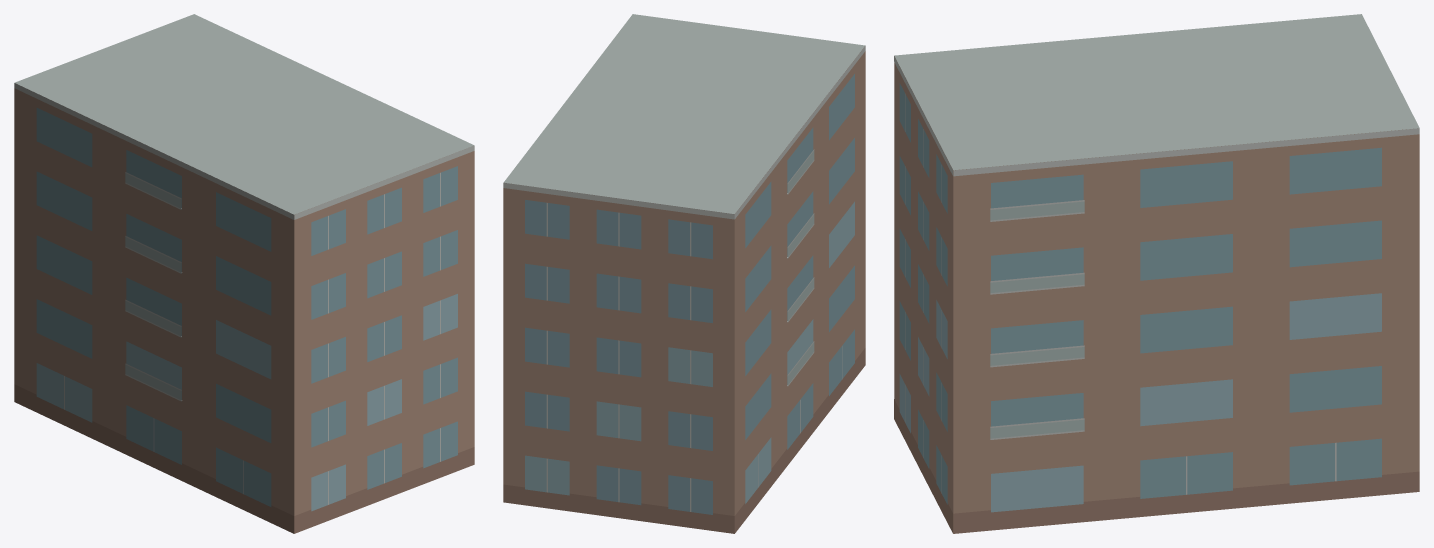
The model's file is survey-upis-32799231.glb.
3 views of the same model, side by side, from view 1: azimuth 30°, elevation 25°; view 2: azimuth 150°, elevation 25°; view 3: azimuth 270°, elevation 25° (orthographic). The views are drawn at different scales.
Visible parts, largest first — view 1: survey-upis-32799231.tmp; view 2: survey-upis-32799231.tmp; view 3: survey-upis-32799231.tmp.
Boxes of the visible parts, x1=… form: survey-upis-32799231.tmp: x1=14, y1=14, x2=474, y2=533; survey-upis-32799231.tmp: x1=503, y1=14, x2=865, y2=533; survey-upis-32799231.tmp: x1=894, y1=14, x2=1419, y2=533.
Bounding box in the file's own units: 13.47 × 14.6 × 19.14.
